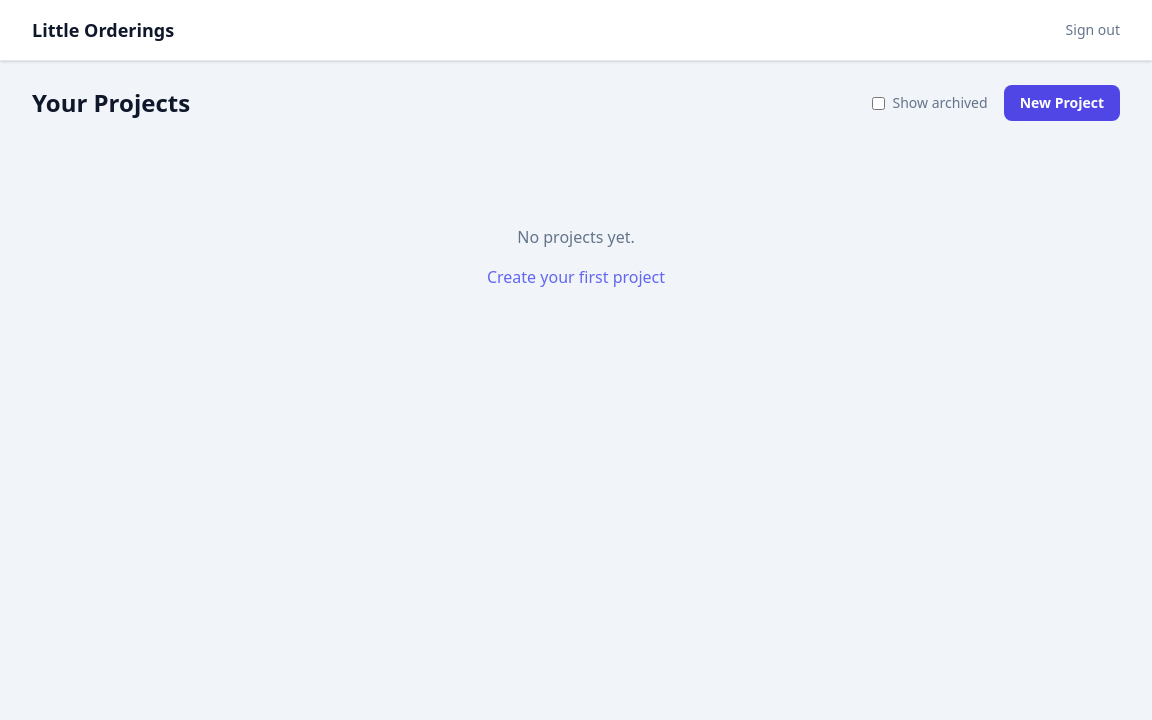
Scenario: "New Project" button opens the create modal
Check: the text "No projects yet." is shown, box [517,226,635,248]
Click the button "New Project" at (1062, 103), box [1004,85,1120,121]
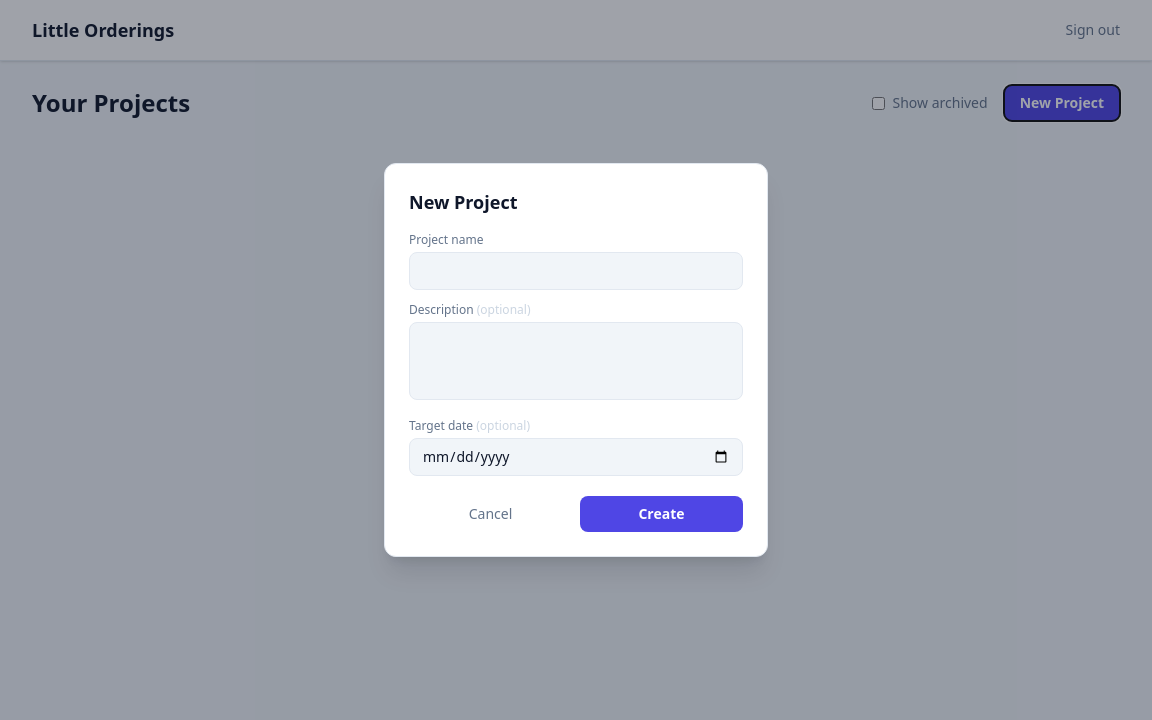
Check: the field labelled "Project name" is shown, box [409,252,743,290]
